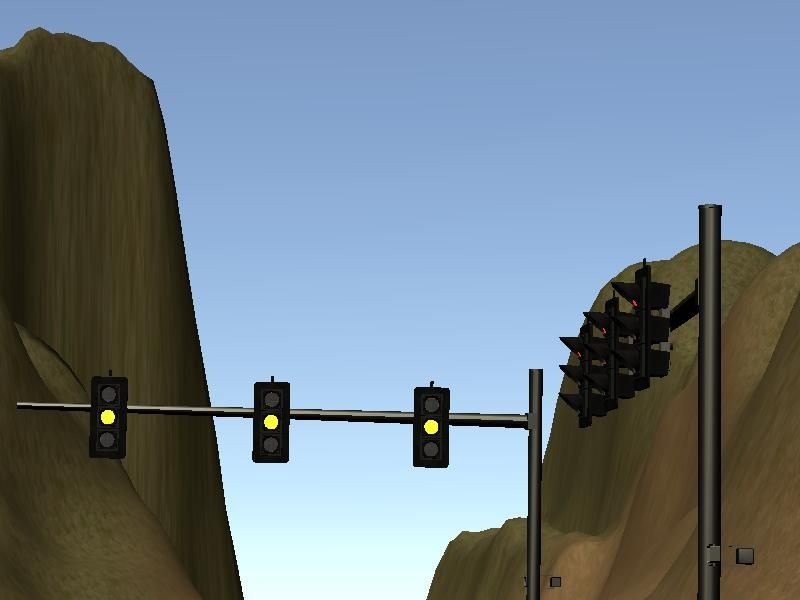YELLOW: (410, 384, 449, 469), (249, 381, 288, 466), (88, 376, 127, 461)
